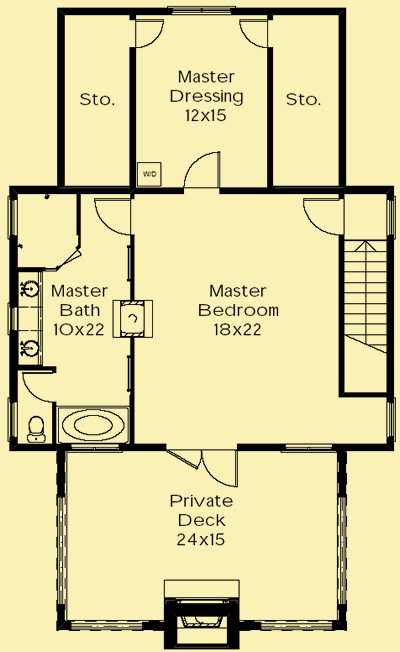door: (165, 445, 241, 492), (175, 150, 224, 194), (301, 195, 342, 238), (88, 195, 133, 234), (127, 18, 167, 51), (235, 14, 271, 48), (23, 371, 57, 404)
large_sink: (23, 410, 51, 445)
small_sink: (18, 270, 44, 367)
stairs: (342, 235, 389, 357)
tub: (56, 406, 129, 445)
window: (4, 399, 18, 443), (384, 400, 399, 440), (284, 442, 334, 453), (6, 197, 18, 238), (6, 305, 19, 335)
